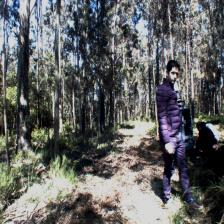trunktrack_idkeyframe: (14, 50, 32, 151), (54, 73, 60, 153)
